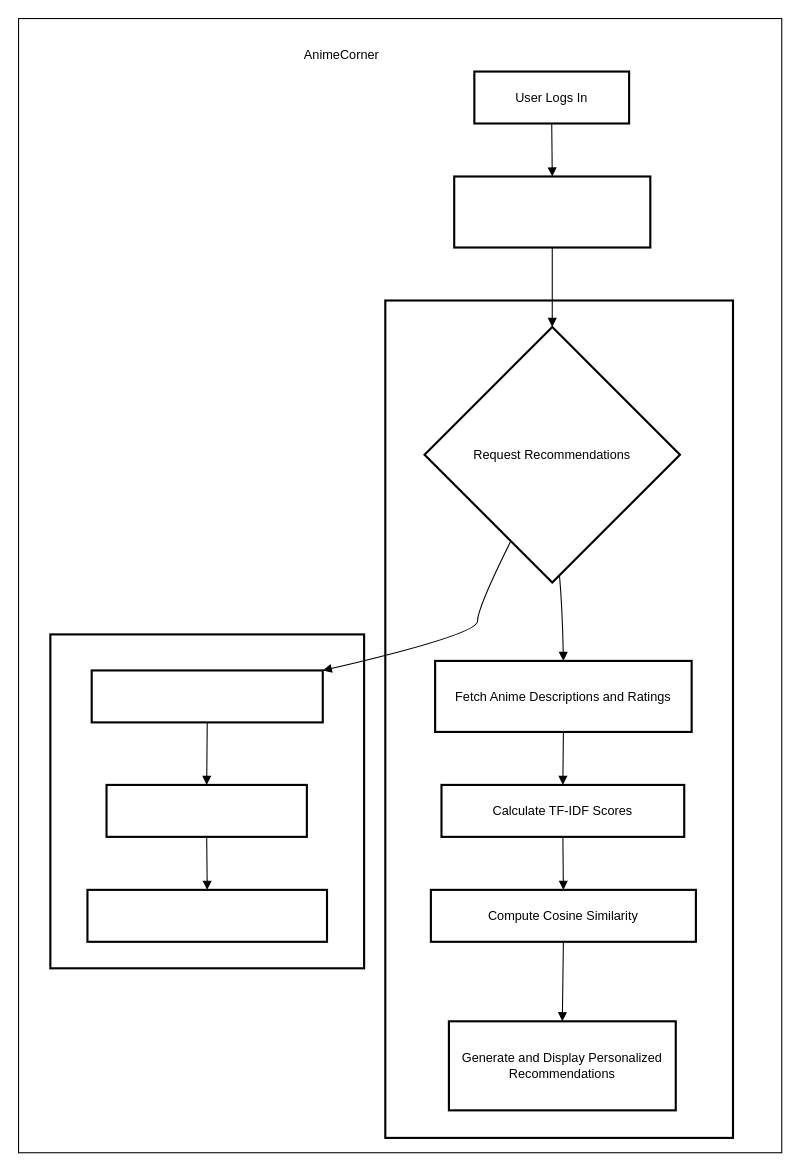
This 800x1171 diagram has some shape labels left out. The centre of each missing label's shape, as x and y in pixels:
Display Trending Anime: point (207, 915)
Fetch Average Ratings: point (206, 696)
Sort by Popularity: point (206, 810)
User Rates Anime (optional): point (552, 211)
